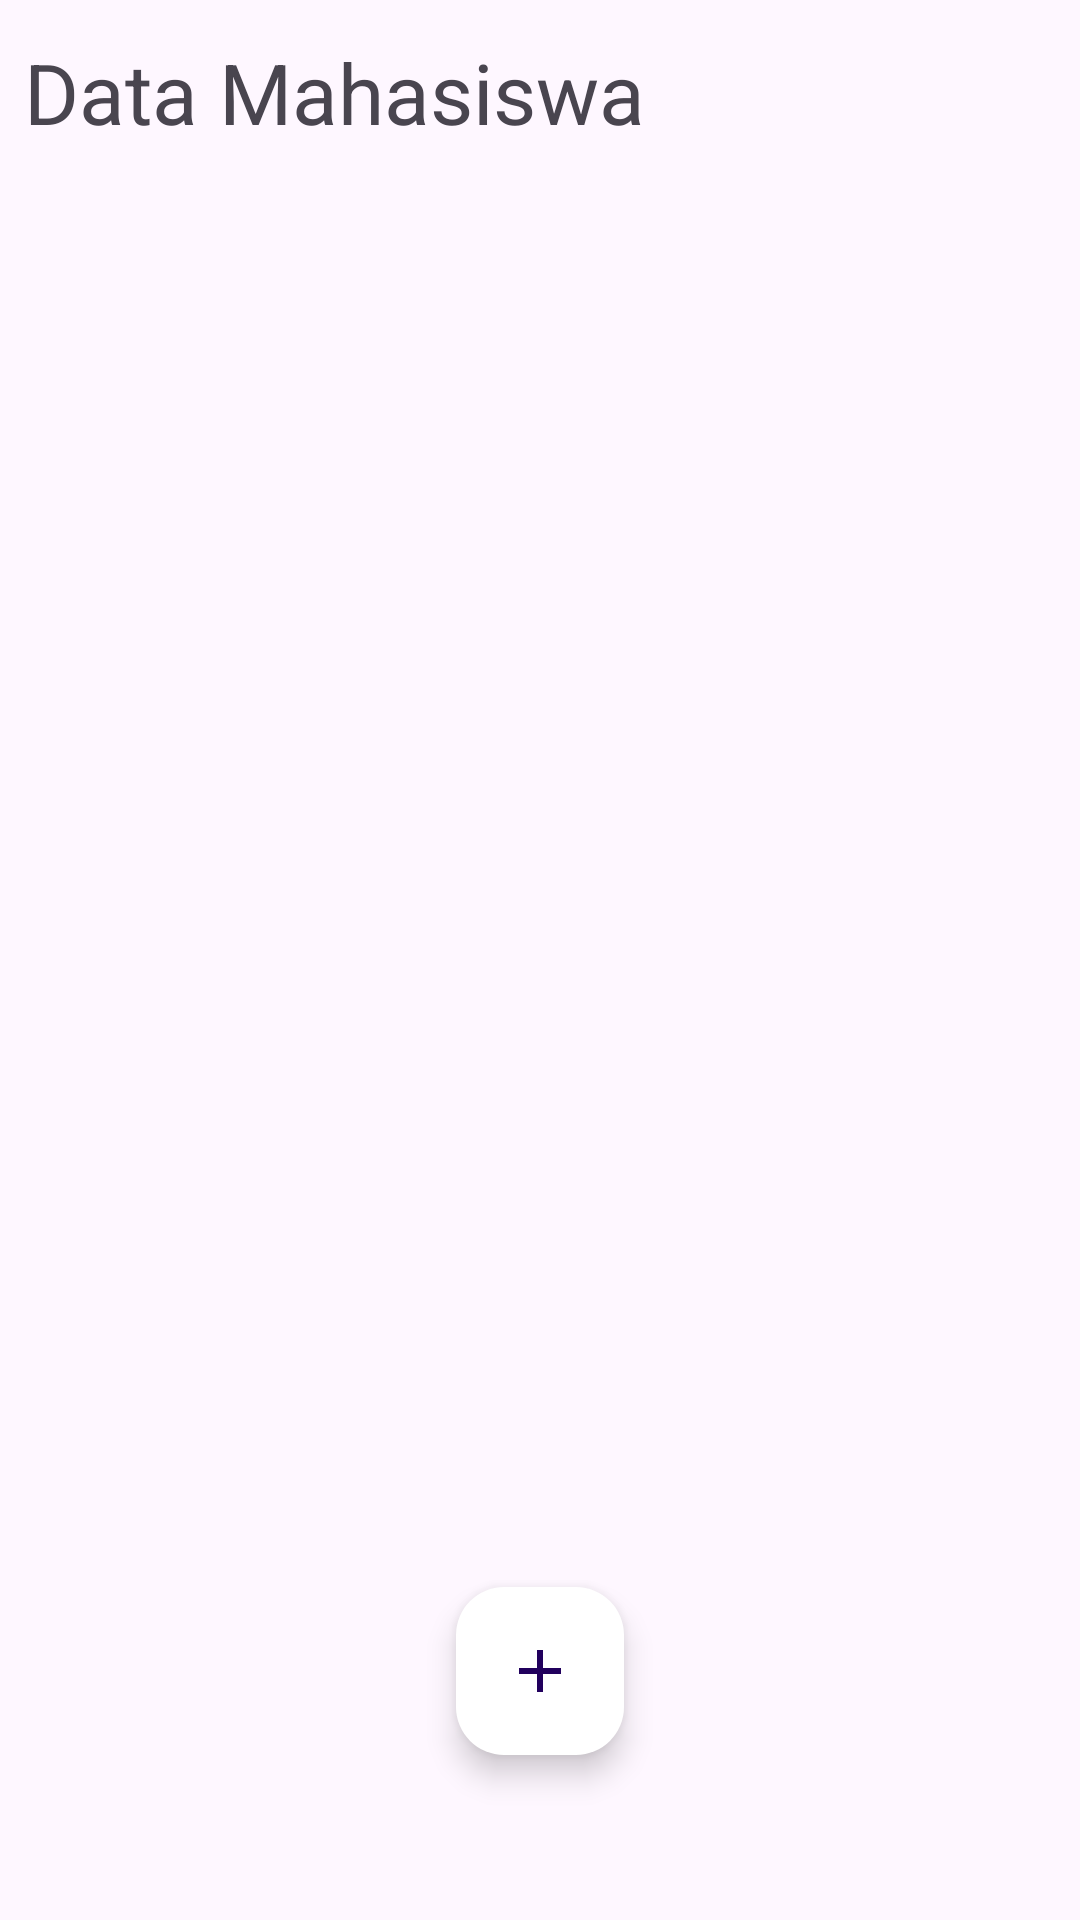

Screen size 1080px x 1920px. Icon name, then its center in pixels as (x=x, y=y):
add: (x=540, y=1671)
